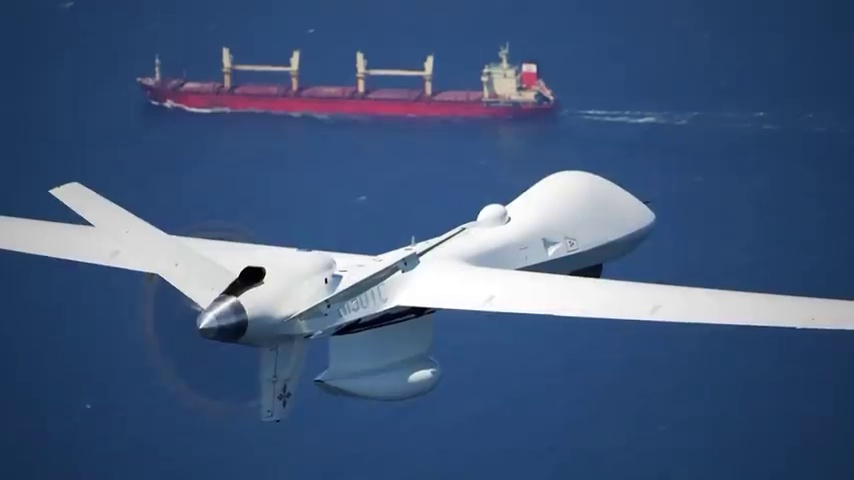military drone: (0, 168, 854, 422)
